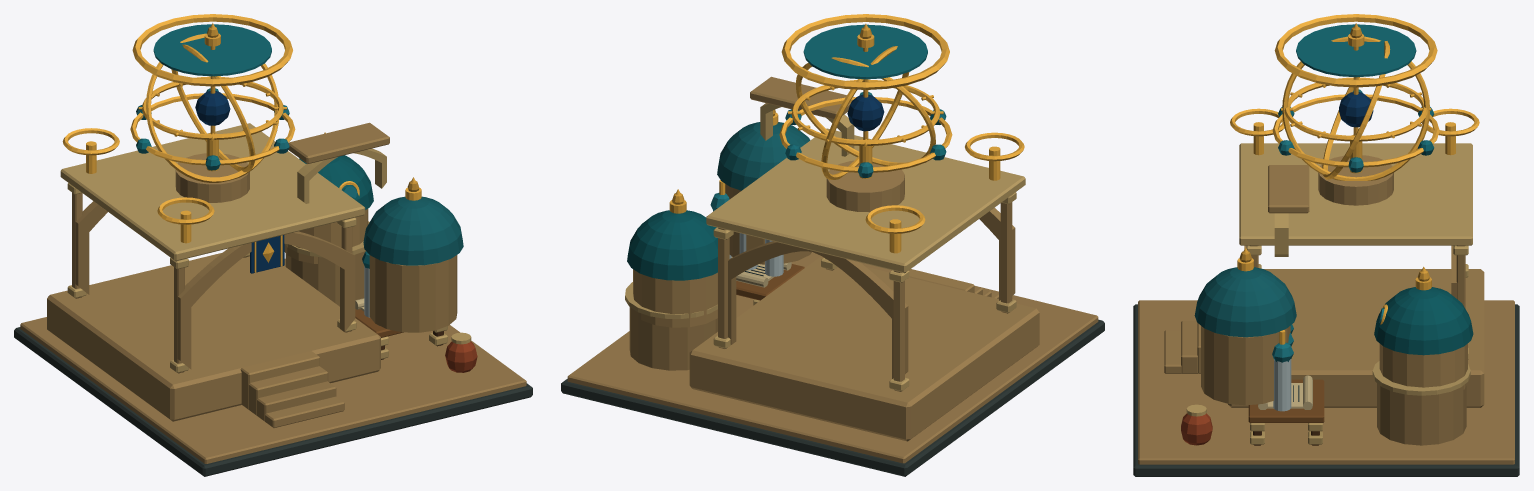
3 views of the same model, side by side, from view 1: azimuth 30°, elevation 25°; view 2: azimuth 150°, elevation 25°; view 3: azimuth 270°, elevation 25° (orthographic). The views are drawn at different scales.
Visible parts, largest first — view 1: laboratory_level9_structure, laboratory_level9_metal; view 2: laboratory_level9_structure, laboratory_level9_metal; view 3: laboratory_level9_structure, laboratory_level9_metal.
Boxes of the visible parts, left/top/right/bottom form: laboratory_level9_structure: left=14, top=24, right=532, bottom=476; laboratory_level9_metal: left=62, top=14, right=421, bottom=272; laboratory_level9_structure: left=561, top=24, right=1104, bottom=476; laboratory_level9_metal: left=669, top=14, right=1024, bottom=253; laboratory_level9_structure: left=1133, top=24, right=1519, bottom=476; laboratory_level9_metal: left=1230, top=14, right=1479, bottom=344.
Bounding box in the file's own units: 5.6 × 5.61 × 5.6.
